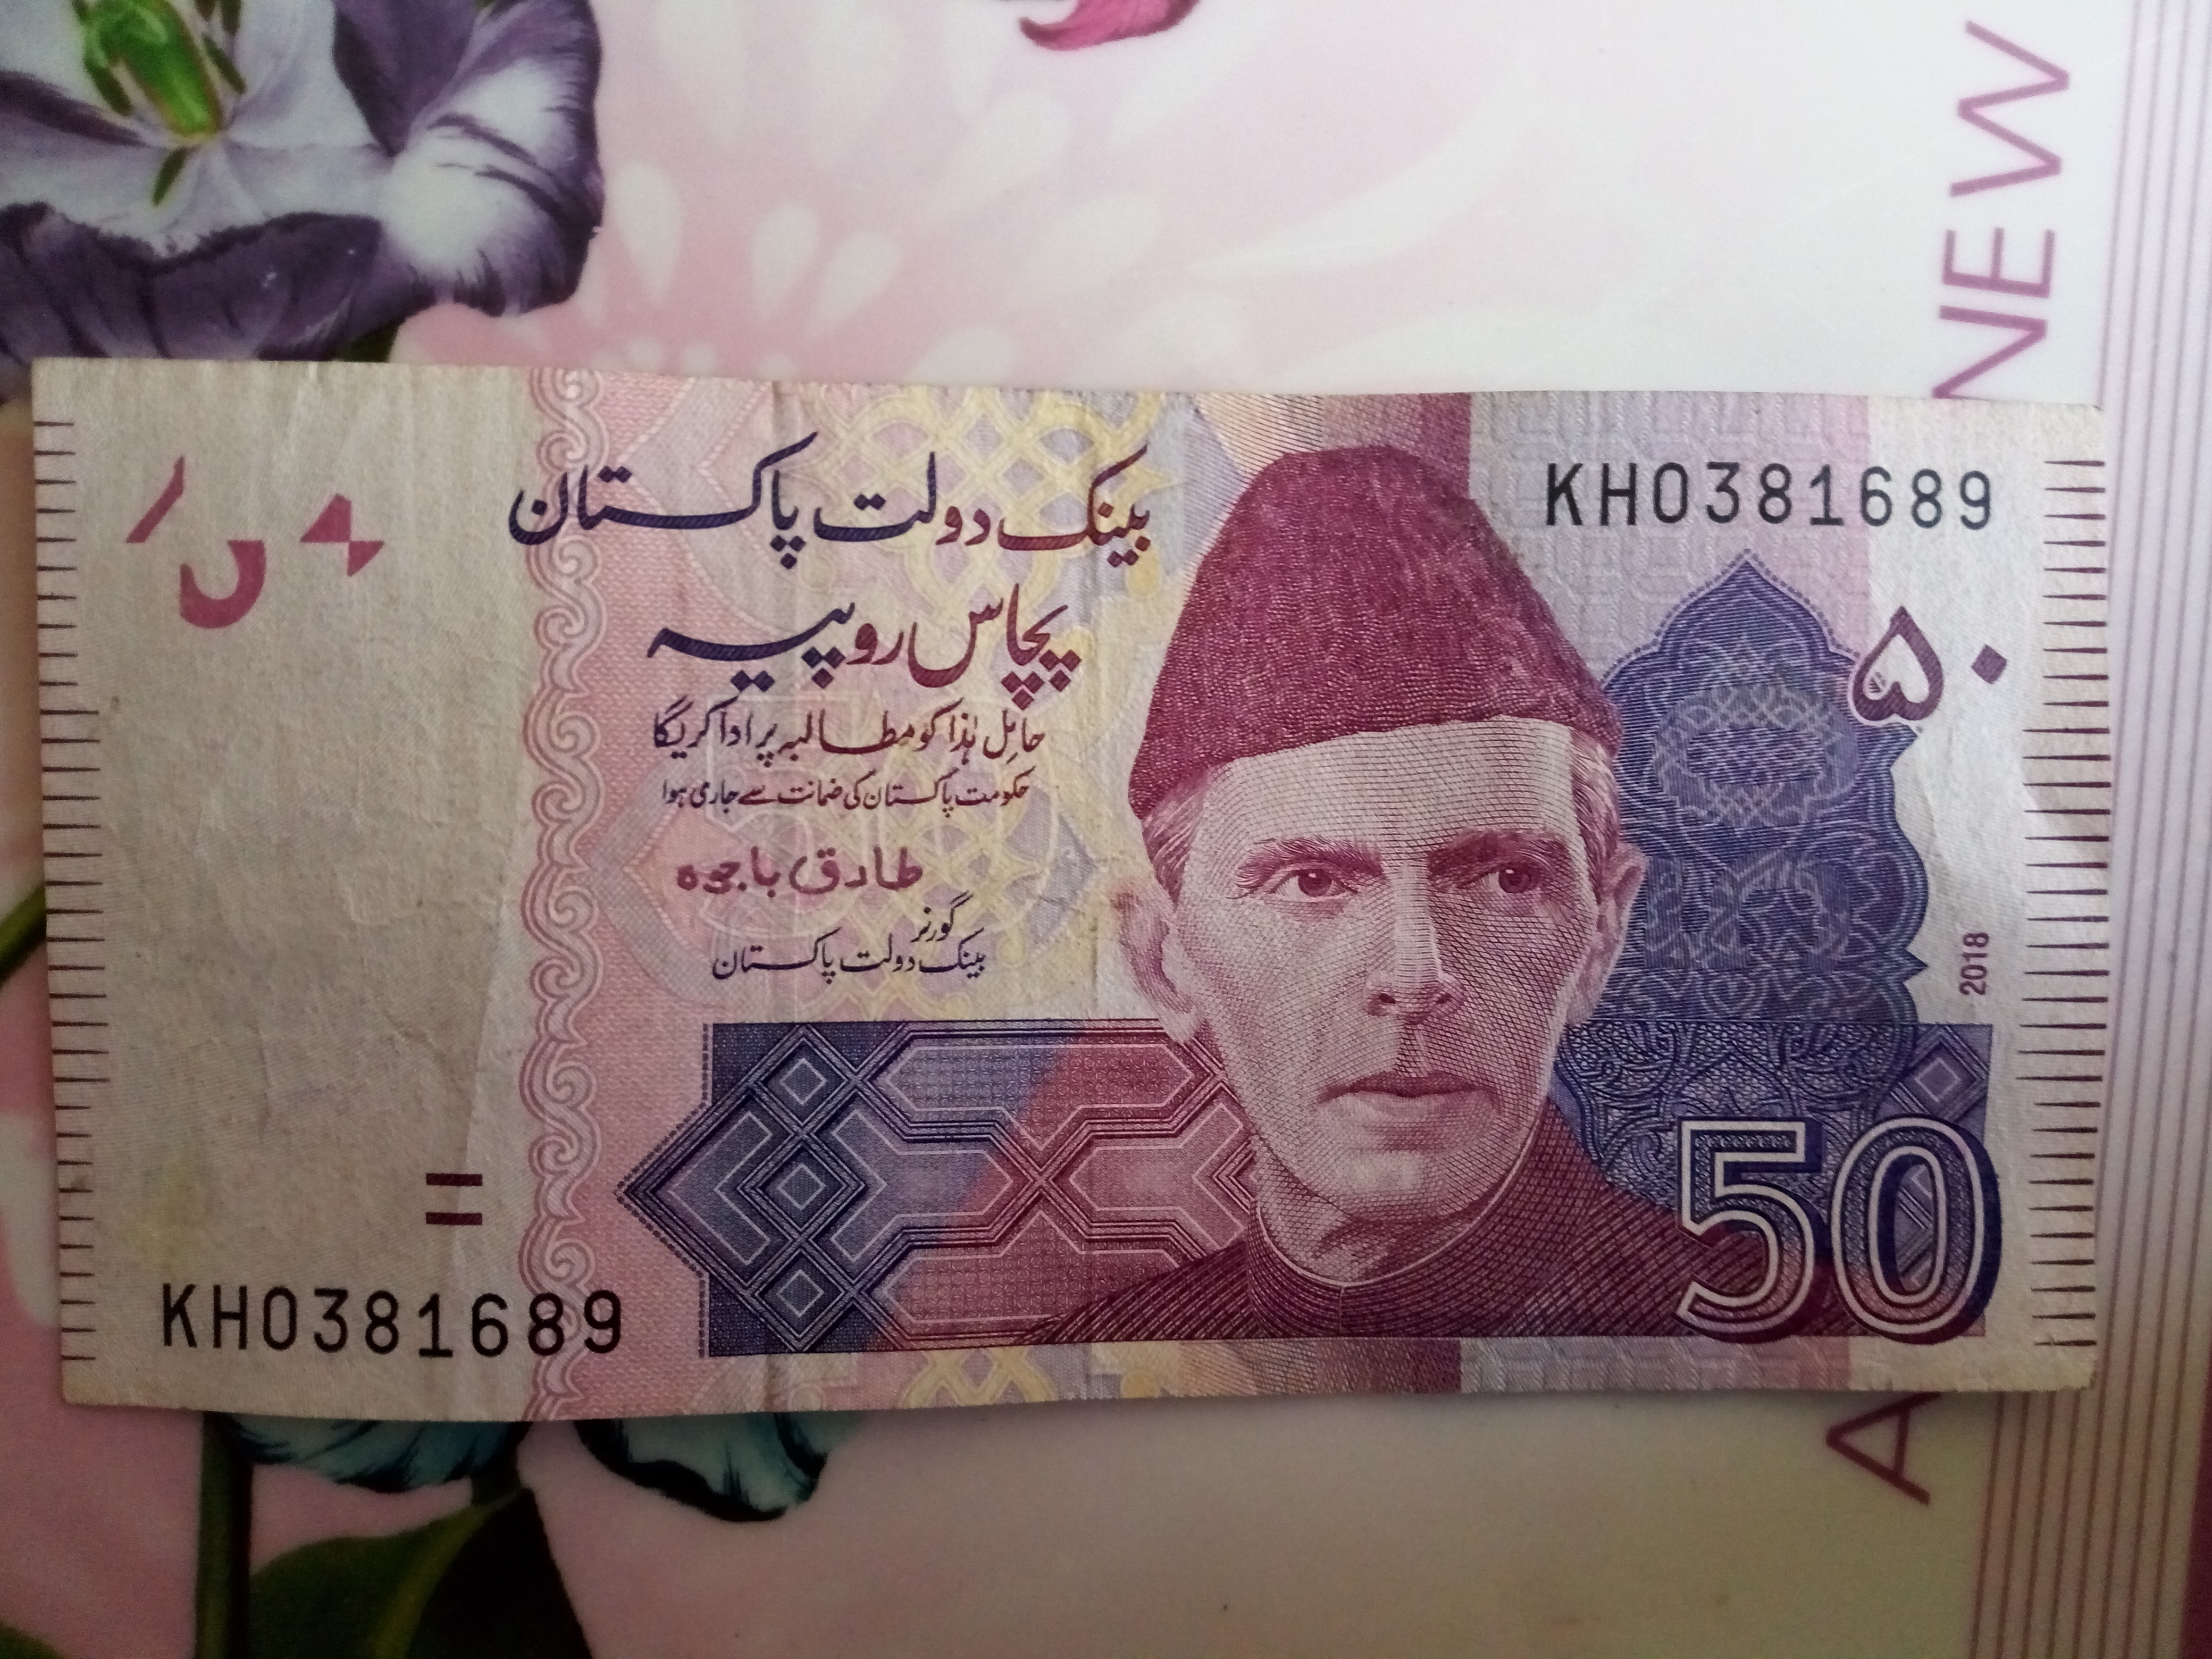50 rupee: (16, 296, 2144, 1443)
